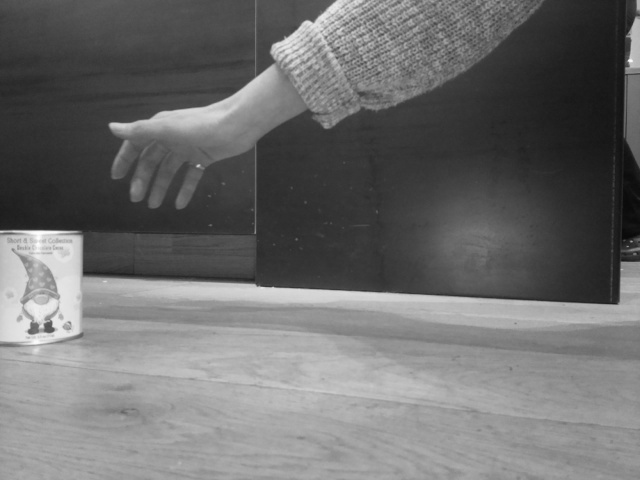gnome: (6, 245, 77, 337)
